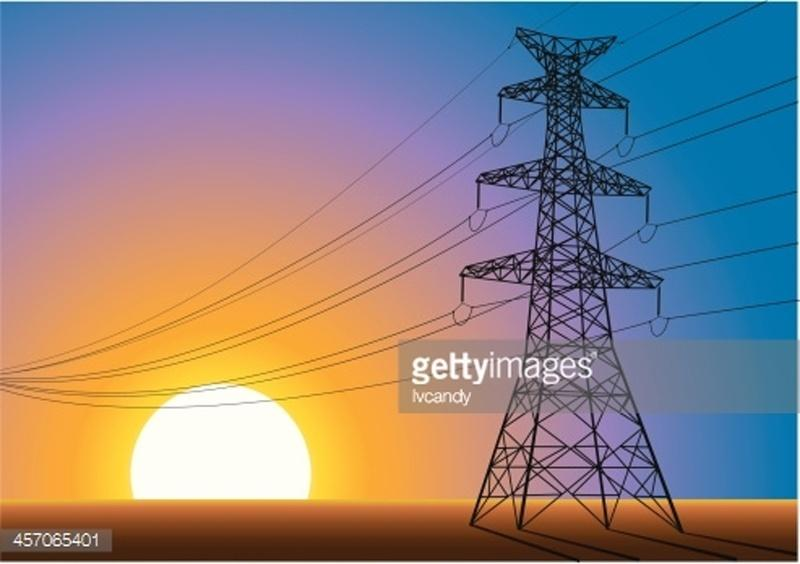power_tower: (458, 17, 701, 538)
